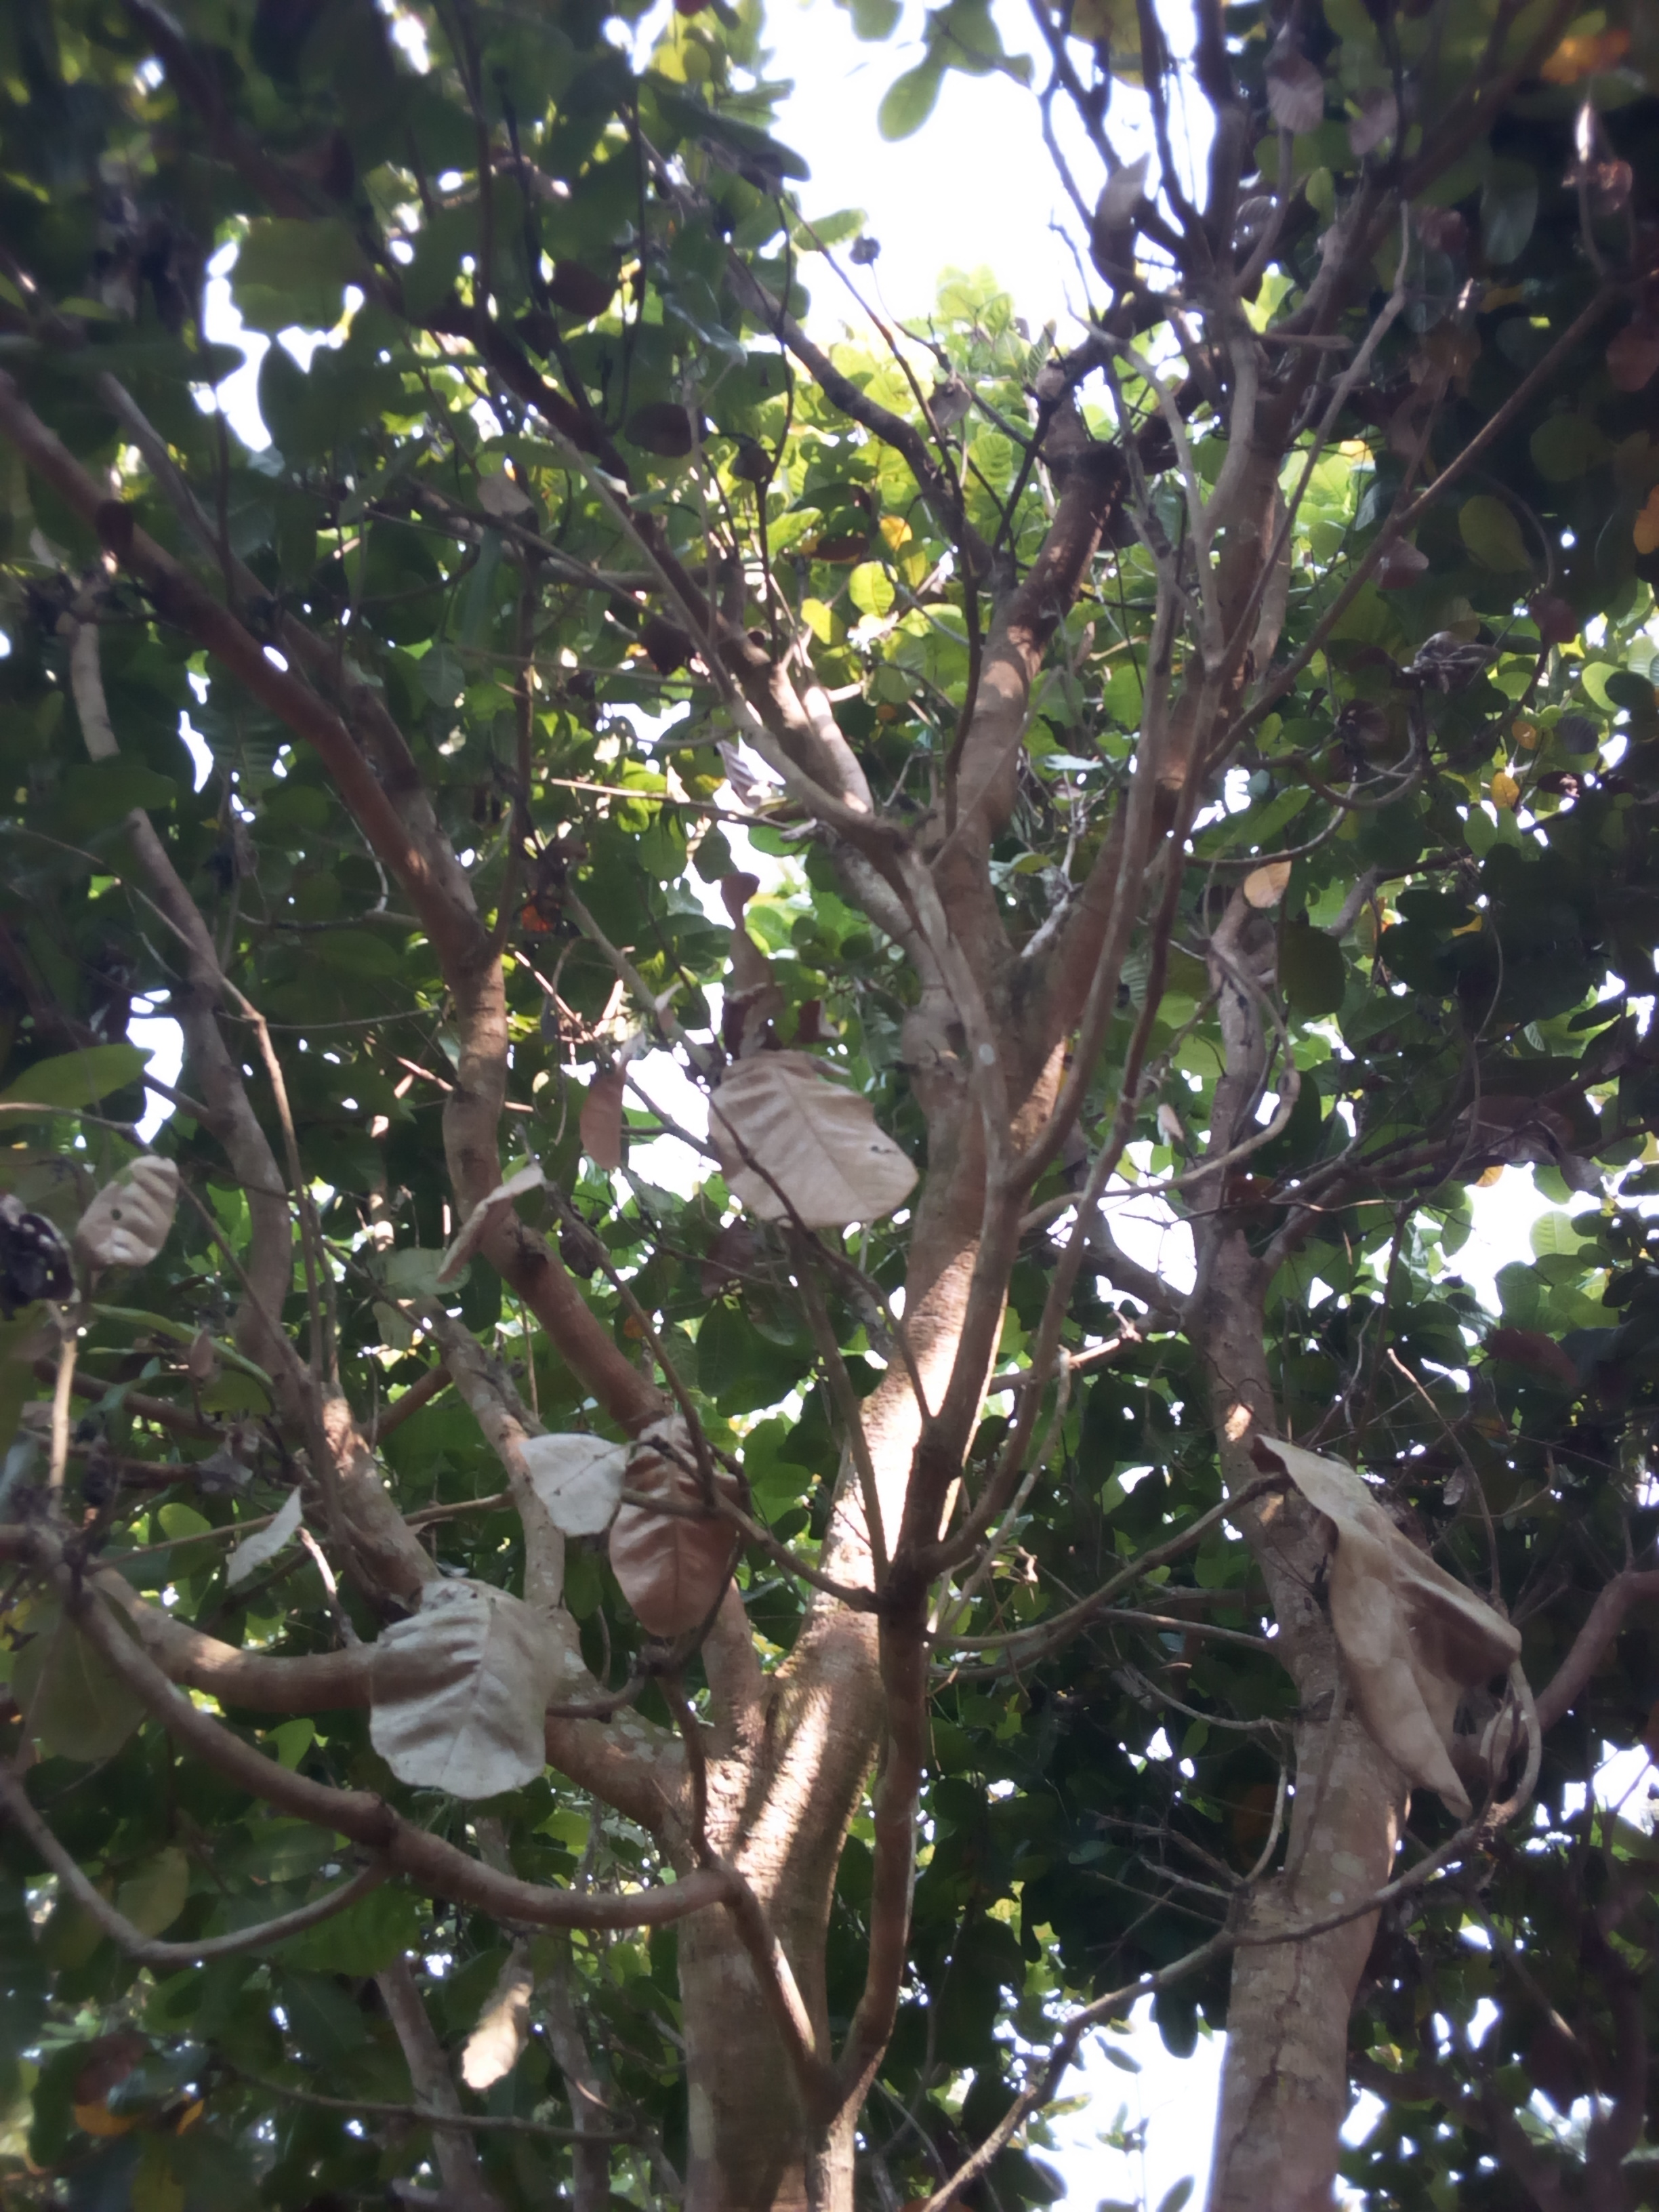Dessèchement des bourgeons: (453, 1188, 622, 1346), (1046, 397, 1204, 566)
